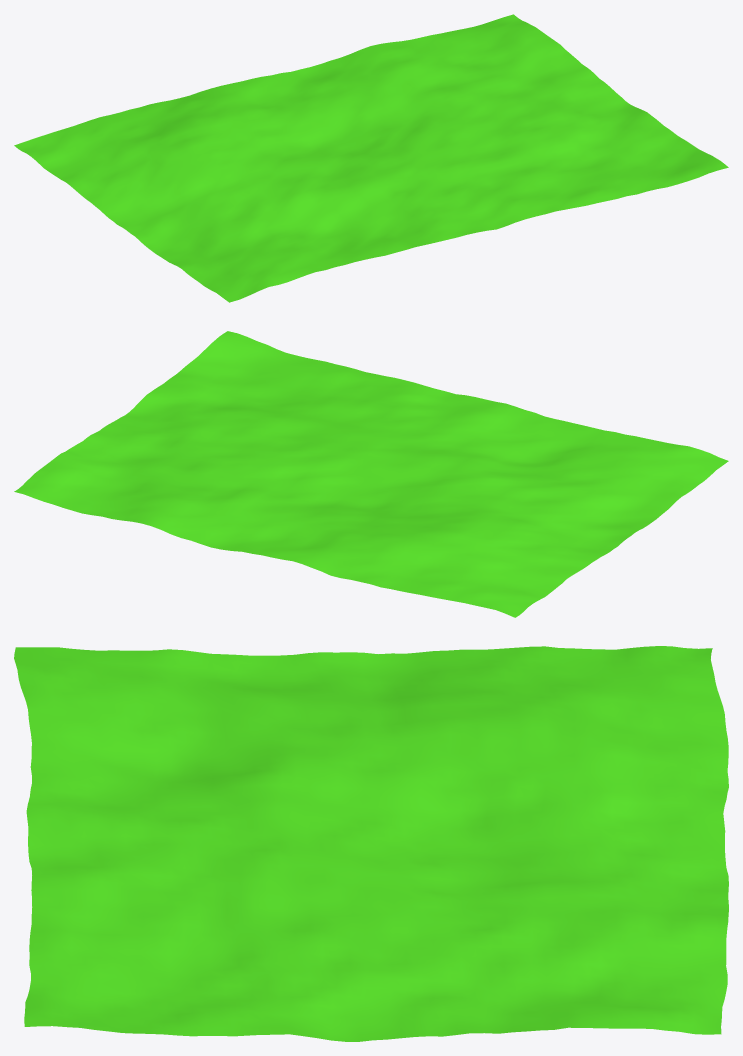
File: liquido.fbx
The picture shows the model from 3 angles, top to bottom: view 1: azimuth 30°, elevation 25°; view 2: azimuth 150°, elevation 25°; view 3: azimuth 270°, elevation 25°; orthographic projection. The views are drawn at different scales.
Parts seen in each view (by area): view 1: Plane002; view 2: Plane002; view 3: Plane002.
Boxes of the visible parts, bbox=[...] form: Plane002: bbox=[14, 14, 728, 302]; Plane002: bbox=[14, 331, 728, 617]; Plane002: bbox=[14, 646, 728, 1041].
Size of the model in its own units: 156 by 5.75 by 119.
